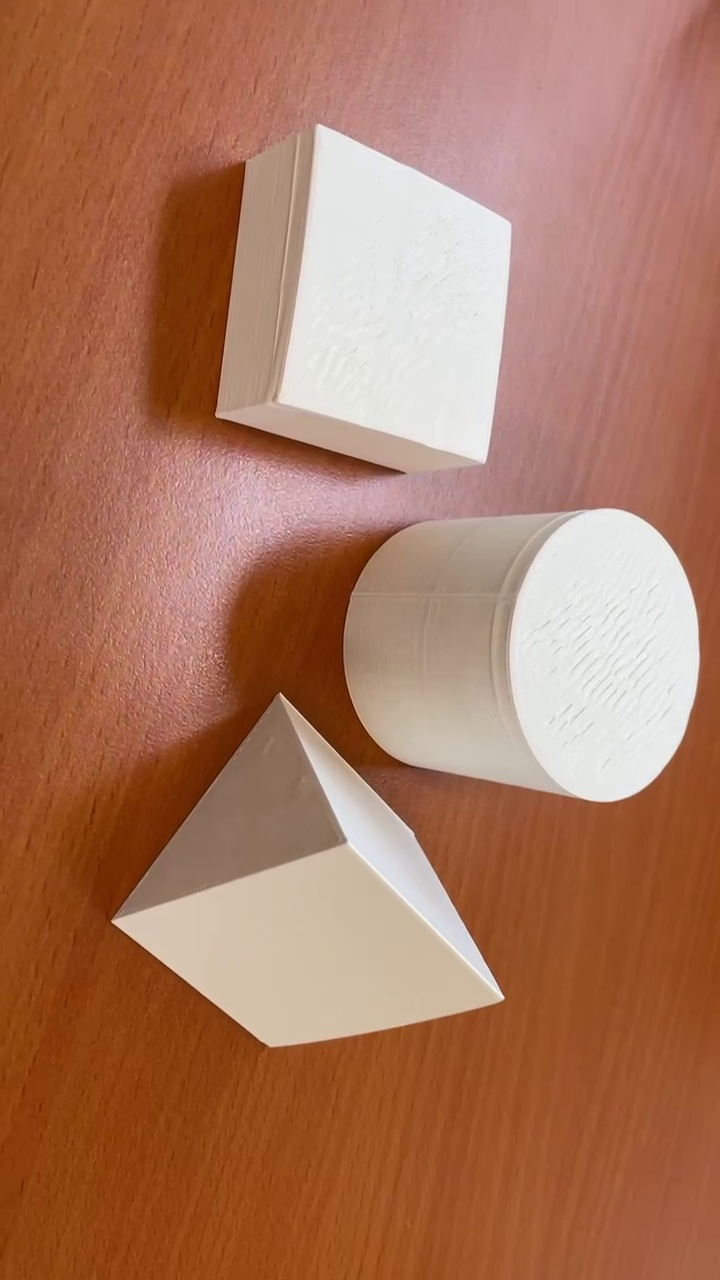Cube_short: (215, 120, 516, 481)
Cylinder: (346, 508, 698, 802)
Triangle: (97, 693, 505, 1042)
